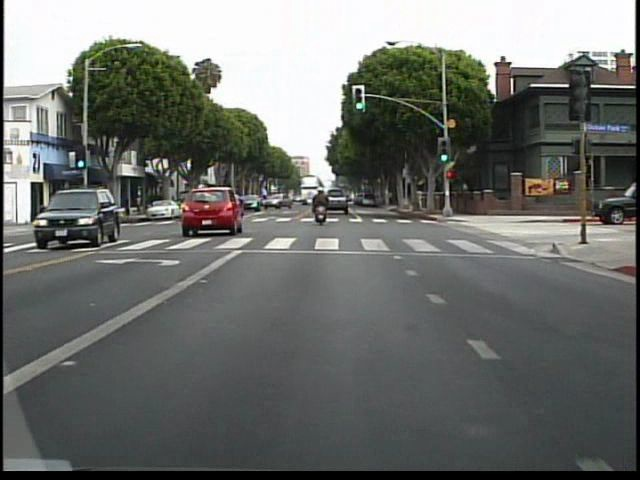person: (309, 182, 335, 228)
